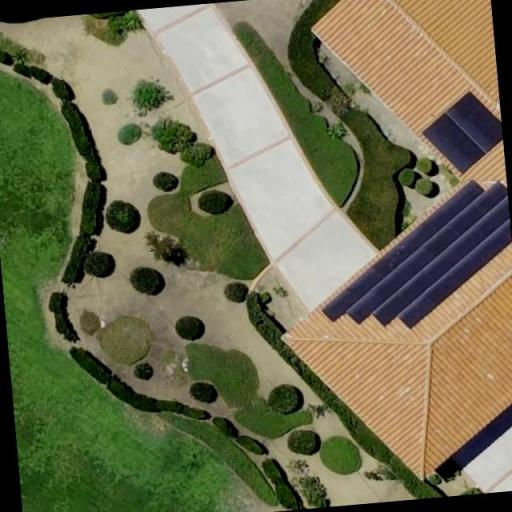solar-panel: (320, 178, 512, 329), (421, 90, 503, 173)
